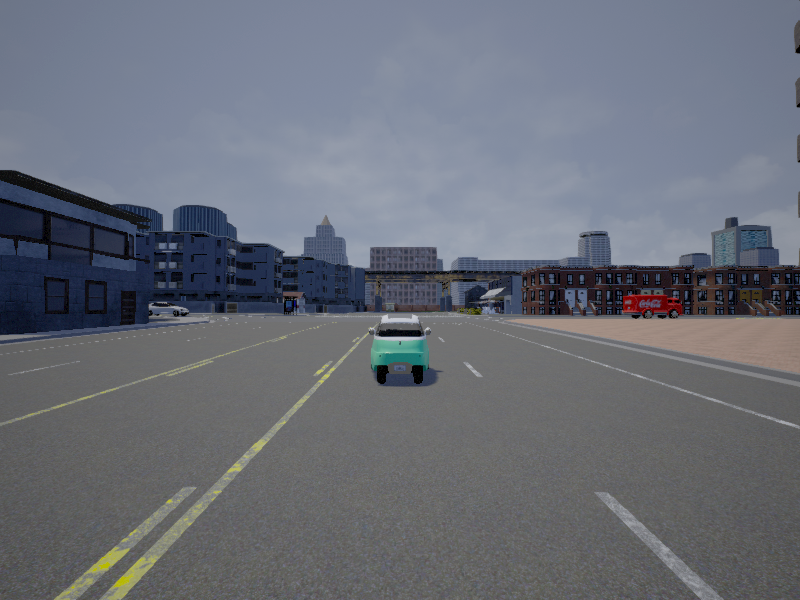Benign: (370, 313, 431, 385), (624, 294, 682, 321), (147, 303, 189, 318)
